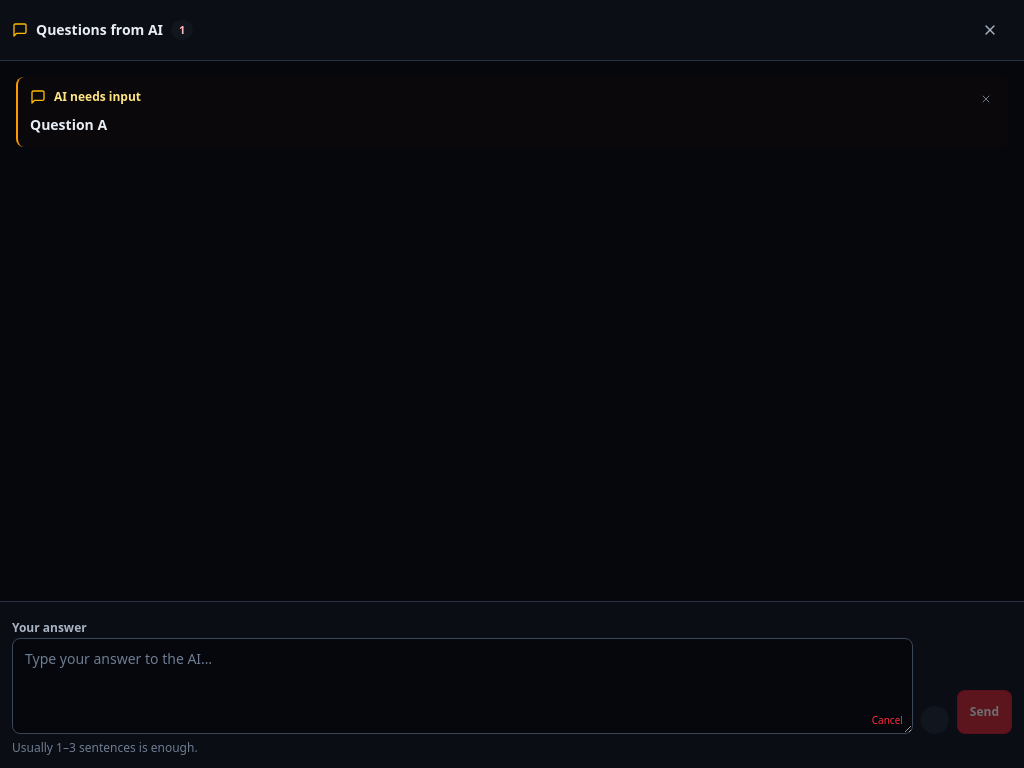
Test case: QuestionPanel › send: disabled while the submit is in flight
The image size is (1024, 768).
Type "answer" into the text box labelled "Your answer" at (462, 686), box 12,638 -> 913,734
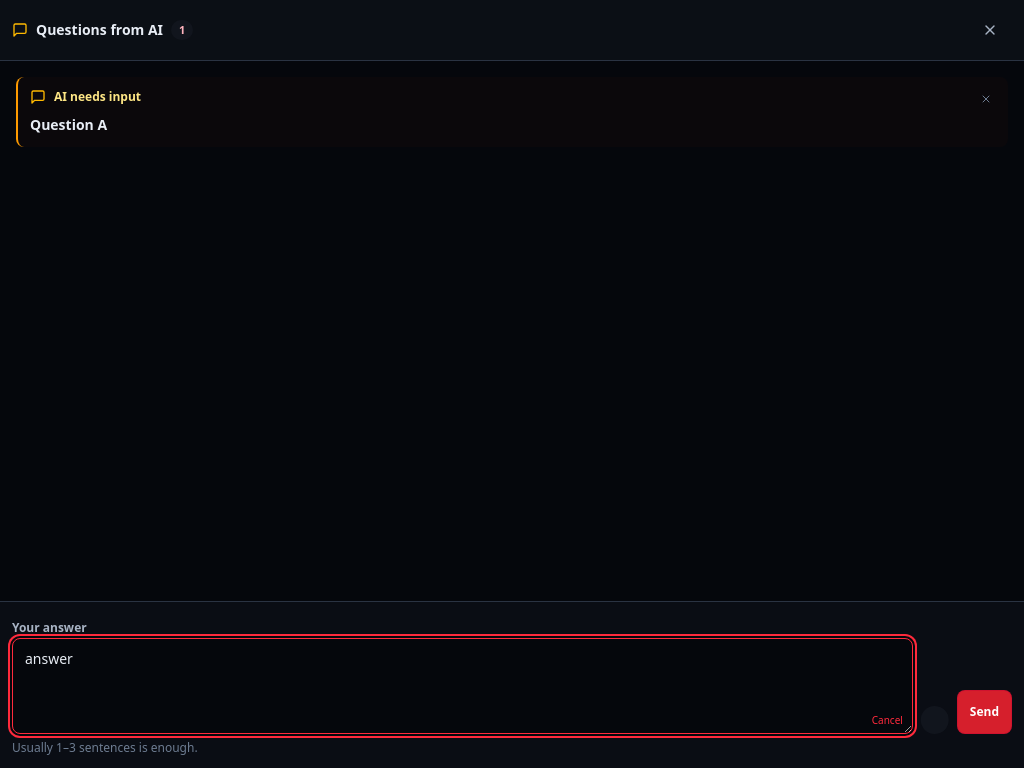
Click the button with aria-label "Send answer" at (984, 712), box 957,690 -> 1012,734
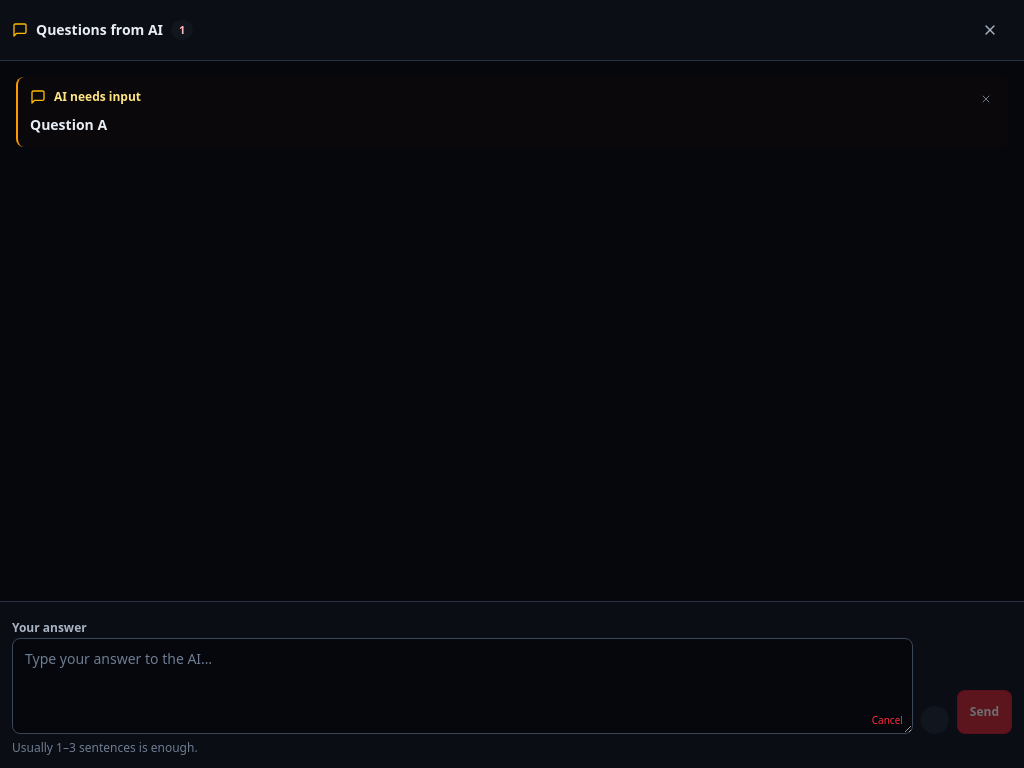
Expected: the button with aria-label "Send answer" is disabled, 957,690 -> 1012,734
Expected: the text box labelled "Your answer" is empty, 12,638 -> 913,734
